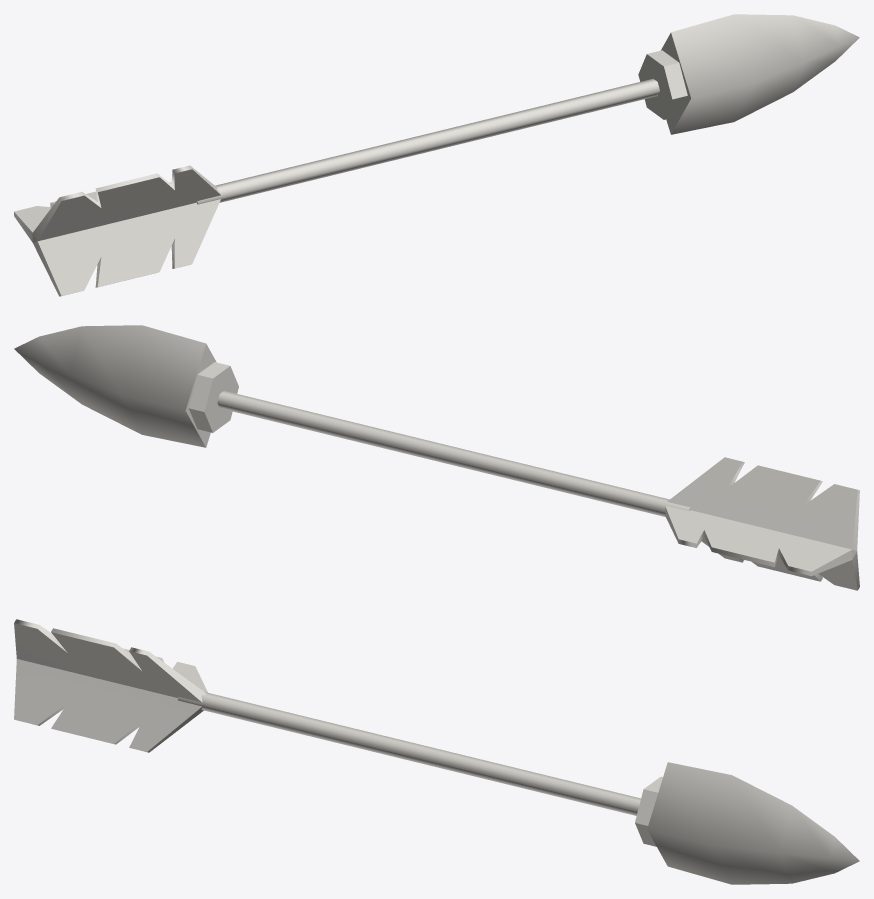
The model's file is arrow.glb.
3 renders of one model, top to bottom at view 1: azimuth 30°, elevation 25°; view 2: azimuth 150°, elevation 25°; view 3: azimuth 330°, elevation 25°, orthographic.
Parts seen in each view (by area): view 1: Standard.13, Standard.12, Standard.14; view 2: Standard.13, Standard.12, Standard.14; view 3: Standard.13, Standard.12, Standard.14.
Boxes of the visible parts, x1,y1,x2,y2 form: Standard.13: [638, 14, 859, 134]; Standard.12: [14, 165, 220, 296]; Standard.14: [197, 79, 659, 204]; Standard.13: [14, 325, 238, 447]; Standard.12: [665, 457, 859, 590]; Standard.14: [217, 390, 690, 516]; Standard.13: [635, 762, 859, 884]; Standard.12: [14, 619, 207, 752]; Standard.14: [177, 692, 640, 815].
Bounding box in the file's own units: 0.0191 × 0.00239 × 0.00205.
3 materials, 3 textured.
